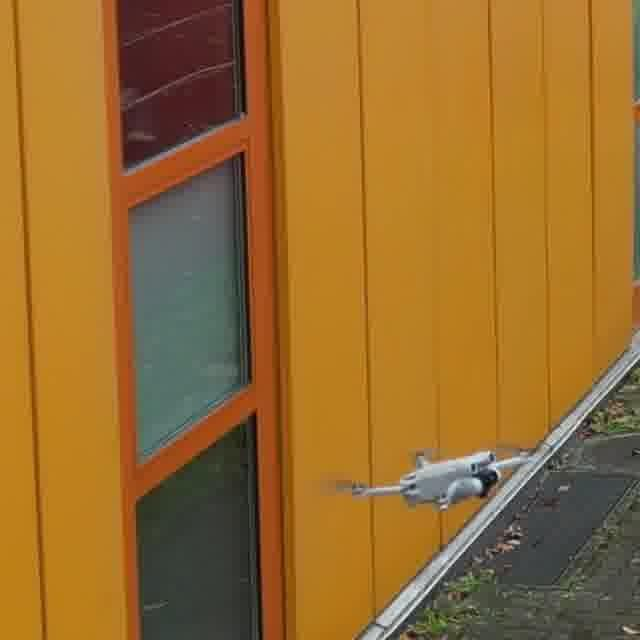Drohne: (346, 450, 531, 510)
